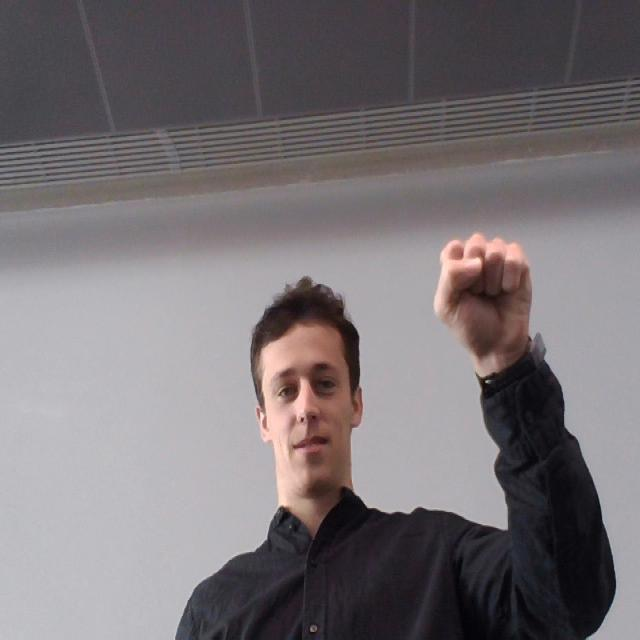stop: (417, 232, 545, 354)
